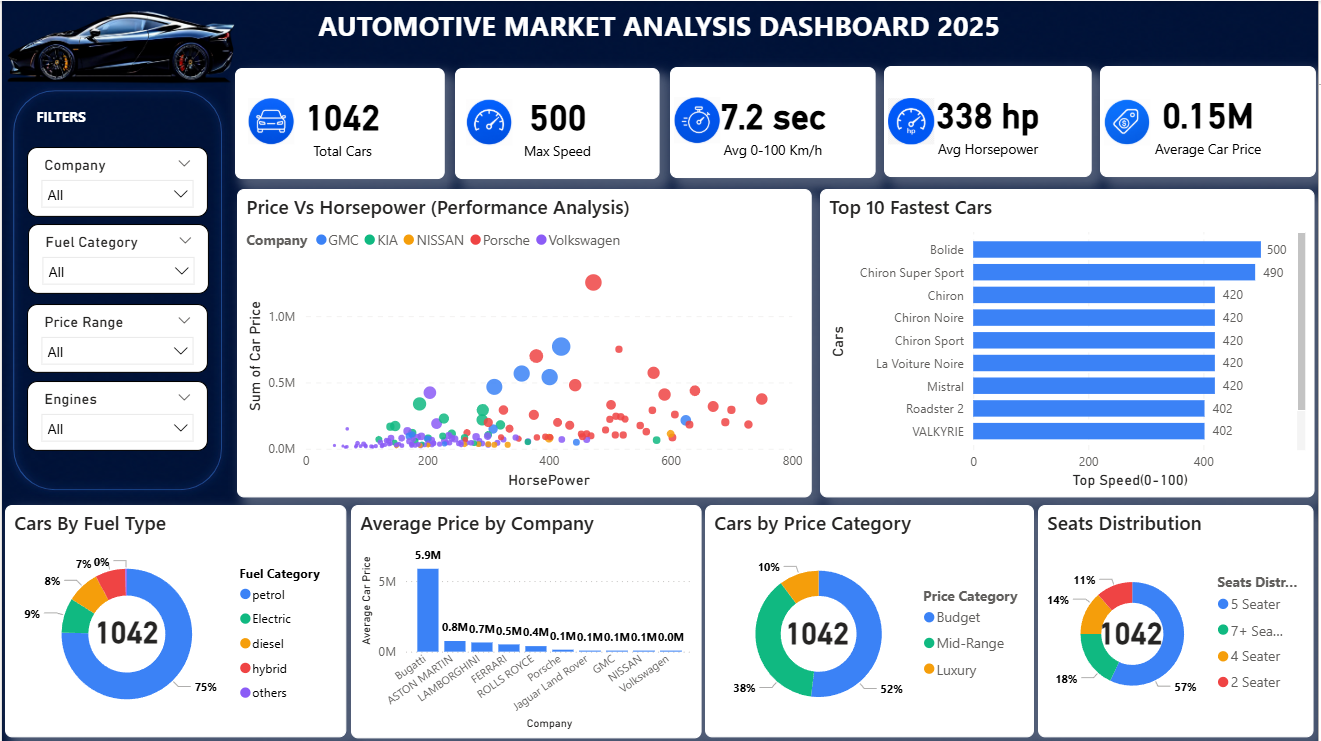

This screenshot's page, from the dashboard's own definition file:
{"tool":"powerbi","page":{"name":"Page 1","canvas":[1280,720],"ordinal":0},"visuals":[{"type":"shape","box":[3,79,219,405],"z":1000},{"type":"textbox","box":[302.5,0,675,53.5],"z":2000},{"type":"card","fields":{"Values":["Cars Datasets 2025.Total Cars"]},"box":[227,65,204,108],"z":3000},{"type":"card","fields":{"Values":["Cars Datasets 2025.Avg Acceleration Display"]},"box":[650,64,200,108],"z":4000},{"type":"card","fields":{"Values":["Avg(Cars Datasets 2025.Price clean)"]},"box":[1068,63,210,108],"z":5000},{"type":"card","fields":{"Values":["Cars Datasets 2025.Max Speed"]},"box":[441,65,199,108],"z":6000},{"type":"card","fields":{"Values":["Cars Datasets 2025.Avg Horsepower Display"]},"box":[858,63,202,108],"z":7000},{"type":"scatterChart","title":"Price Vs Horsepower (Performance Analysis)","fields":{"X":["Cars Datasets 2025.HorsePower_Num"],"Size":["Sum(Cars Datasets 2025.HorsePower_Num)1"],"Series":["Cars Datasets 2025.Company"],"Y":["Sum(Cars Datasets 2025.Price clean)"]},"box":[229,183,559,300],"z":8000},{"type":"clusteredBarChart","title":"Top 10 Fastest Cars","fields":{"Y":["Max(Cars Datasets 2025.Total Speed)"],"Category":["Cars Datasets 2025.Car_ Name"]},"box":[796,183,481,300],"z":9000},{"type":"donutChart","title":"Cars By Fuel Type","fields":{"Y":["CountNonNull(Cars Datasets 2025.Car_ Name)"],"Category":["Cars Datasets 2025.Fuel Category"]},"box":[2.6,490.6,332,226],"z":10000},{"type":"card","fields":{"Values":["CountNonNull(Cars Datasets 2025.Fuel Category)"]},"box":[81,582,80.7,61.3],"z":11000},{"type":"slicer","fields":{"Values":["Cars Datasets 2025.Company"]},"box":[24,142,176,68],"z":12000},{"type":"slicer","fields":{"Values":["Cars Datasets 2025.Engines"]},"box":[24,370,176,68],"z":13000},{"type":"slicer","fields":{"Values":["Cars Datasets 2025.Prices"]},"box":[24,295,176,67],"z":14000},{"type":"slicer","fields":{"Values":["Cars Datasets 2025.Fuel Category"]},"box":[25,217,176,68],"z":15000},{"type":"textbox","box":[28,98,93,27],"z":16000},{"type":"clusteredColumnChart","title":"Average Price by Company","fields":{"Category":["Cars Datasets 2025.Company"],"Y":["Avg(Cars Datasets 2025.Price clean)"]},"box":[339.5,490.2,341.4,226.6],"z":17000},{"type":"donutChart","title":"Cars by Price Category","fields":{"Y":["CountNonNull(Cars Datasets 2025.Car_ Name)"],"Category":["Cars Datasets 2025.Price Category"]},"box":[683.8,490.2,320,225.7],"z":18000},{"type":"card","fields":{"Values":["CountNonNull(Cars Datasets 2025.Fuel Category)"]},"box":[752.8,582.6,79.8,61.3],"z":19000},{"type":"image","box":[0,0,235,86],"z":21000},{"type":"image","box":[653.6,90.5,45,50],"z":22000},{"type":"image","box":[1071.9,92.4,45,50],"z":23000},{"type":"image","box":[861.8,91.4,45,50],"z":24000},{"type":"image","box":[451.3,92.4,45,50],"z":25000},{"type":"image","box":[239.3,91.4,45,50],"z":26000},{"type":"donutChart","title":"Seats Distribution","fields":{"Category":["Cars Datasets 2025.Seats Distribution"],"Y":["CountNonNull(Cars Datasets 2025.Seat Sort)"]},"box":[1007.7,490.2,268.4,225.7],"z":26001},{"type":"card","fields":{"Values":["CountNonNull(Cars Datasets 2025.Fuel Category)"]},"box":[1060.2,583.6,74.9,60.3],"z":26002}]}

Visuals, with their boxes in screenshot pixels (x1, y1, x2, y2), scaled from the page's 1280x720 canvas onto the 1321x741 screenshot:
shape: left=3, top=81, right=229, bottom=498
textbox: left=312, top=0, right=1009, bottom=55
card - Cars Datasets 2025.Total Cars: left=234, top=67, right=445, bottom=178
card - Cars Datasets 2025.Avg Acceleration Display: left=671, top=66, right=877, bottom=177
card - Avg(Cars Datasets 2025.Price clean): left=1102, top=65, right=1319, bottom=176
card - Cars Datasets 2025.Max Speed: left=455, top=67, right=660, bottom=178
card - Cars Datasets 2025.Avg Horsepower Display: left=885, top=65, right=1094, bottom=176
"Price Vs Horsepower (Performance Analysis)" scatterChart: left=236, top=188, right=813, bottom=497
"Top 10 Fastest Cars" clusteredBarChart: left=821, top=188, right=1318, bottom=497
"Cars By Fuel Type" donutChart: left=3, top=505, right=345, bottom=738
card - CountNonNull(Cars Datasets 2025.Fuel Category): left=84, top=599, right=167, bottom=662
slicer - Cars Datasets 2025.Company: left=25, top=146, right=206, bottom=216
slicer - Cars Datasets 2025.Engines: left=25, top=381, right=206, bottom=451
slicer - Cars Datasets 2025.Prices: left=25, top=304, right=206, bottom=373
slicer - Cars Datasets 2025.Fuel Category: left=26, top=223, right=207, bottom=293
textbox: left=29, top=101, right=125, bottom=129
"Average Price by Company" clusteredColumnChart: left=350, top=504, right=703, bottom=738
"Cars by Price Category" donutChart: left=706, top=504, right=1036, bottom=737
card - CountNonNull(Cars Datasets 2025.Fuel Category): left=777, top=600, right=859, bottom=663
image: left=0, top=0, right=243, bottom=89
image: left=675, top=93, right=721, bottom=145
image: left=1106, top=95, right=1153, bottom=147
image: left=889, top=94, right=936, bottom=146
image: left=466, top=95, right=512, bottom=147
image: left=247, top=94, right=293, bottom=146
"Seats Distribution" donutChart: left=1040, top=504, right=1317, bottom=737
card - CountNonNull(Cars Datasets 2025.Fuel Category): left=1094, top=601, right=1171, bottom=663
